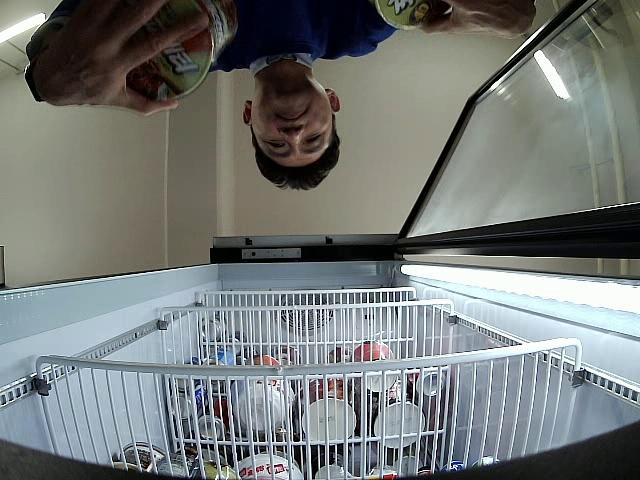00_hand: (39, 0, 210, 116)
03_chapagetti_L: (130, 0, 236, 102), (375, 0, 448, 31)
